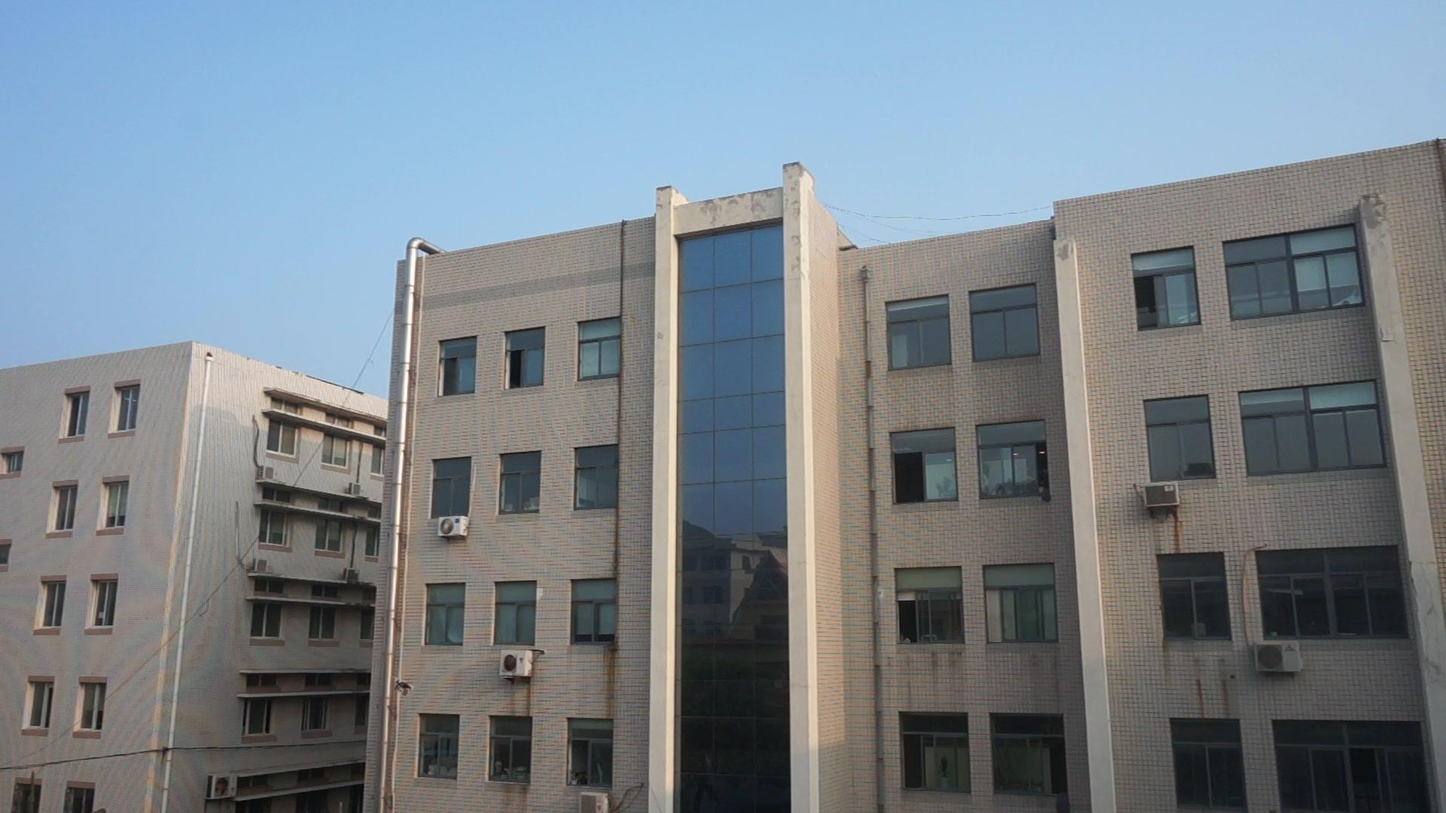UAV: (395, 680, 414, 696)
